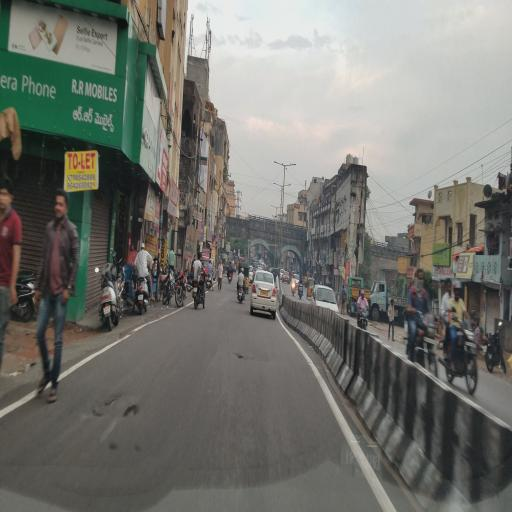street_light_0: (283, 152, 303, 172), (268, 170, 281, 198), (269, 147, 282, 173), (283, 174, 297, 196)
